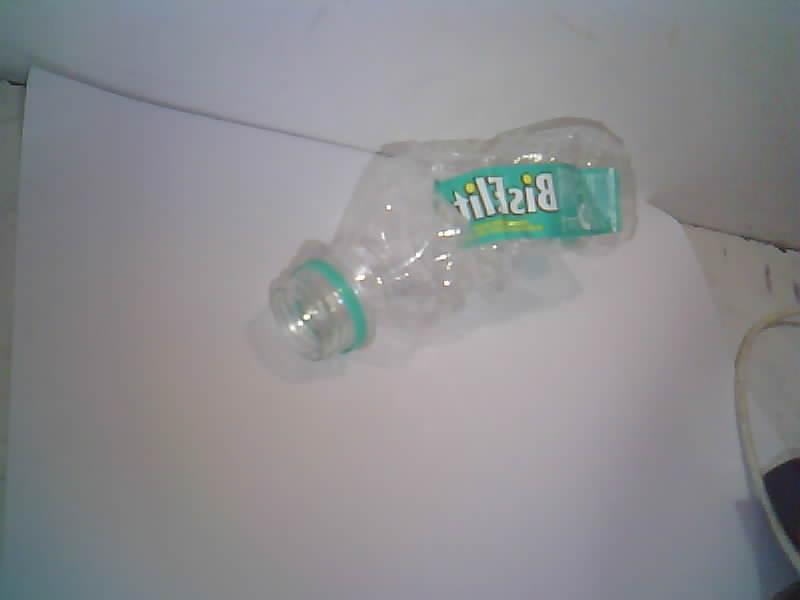non-biodegradable: (270, 119, 635, 359)
